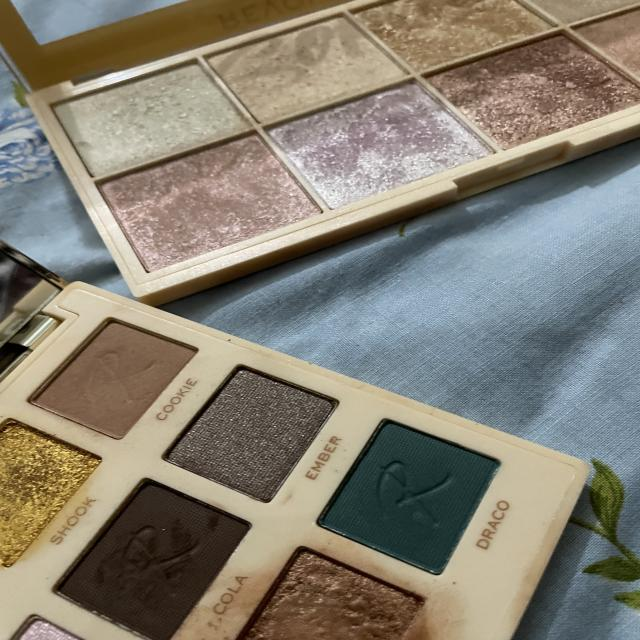eye shade: (311, 409, 511, 582), (58, 472, 258, 640), (152, 352, 346, 509), (22, 310, 208, 440), (229, 538, 434, 640), (0, 412, 115, 574)
highlighter: (259, 78, 490, 224), (96, 128, 329, 264), (411, 21, 640, 156), (202, 2, 425, 126), (47, 50, 257, 175), (335, 0, 575, 82)
